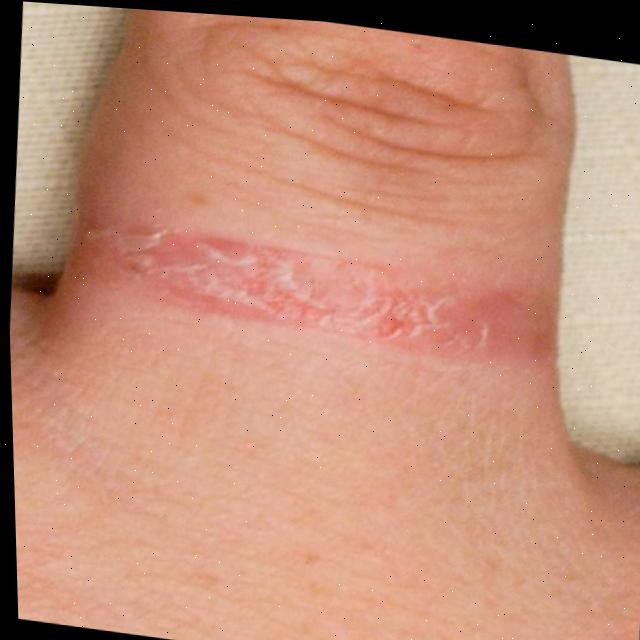Eczema: (121, 177, 528, 389)
